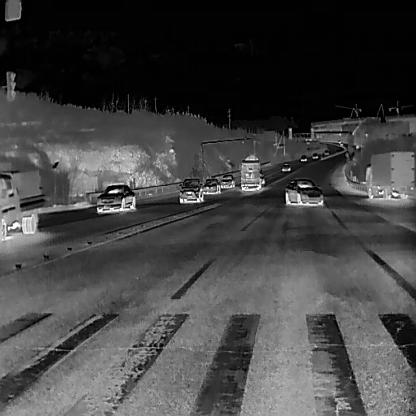car: (96, 182, 135, 214), (283, 176, 323, 206), (178, 177, 204, 203), (202, 177, 220, 194), (219, 173, 234, 188), (280, 160, 290, 172), (258, 172, 265, 184), (299, 154, 306, 162), (311, 151, 317, 159), (334, 147, 339, 153), (323, 149, 328, 154), (338, 142, 342, 146), (337, 139, 340, 142)
truck: (0, 168, 45, 239), (364, 149, 416, 199), (237, 153, 261, 191), (354, 142, 359, 149)
